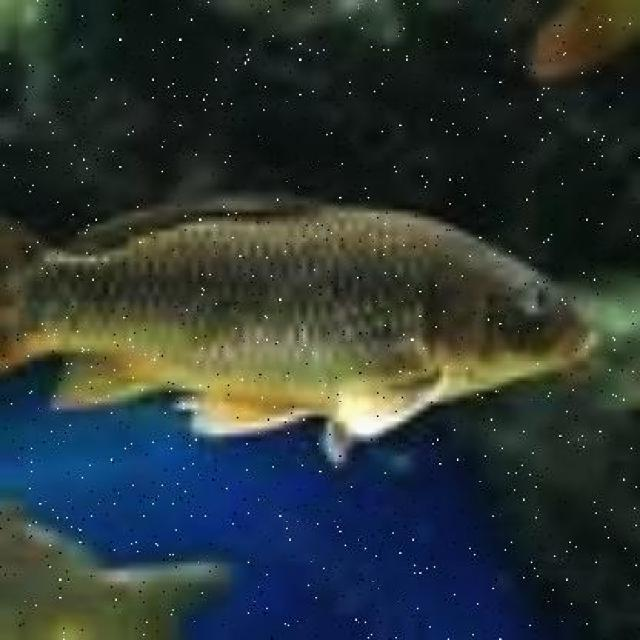ikan-mas: (2, 192, 595, 446)
